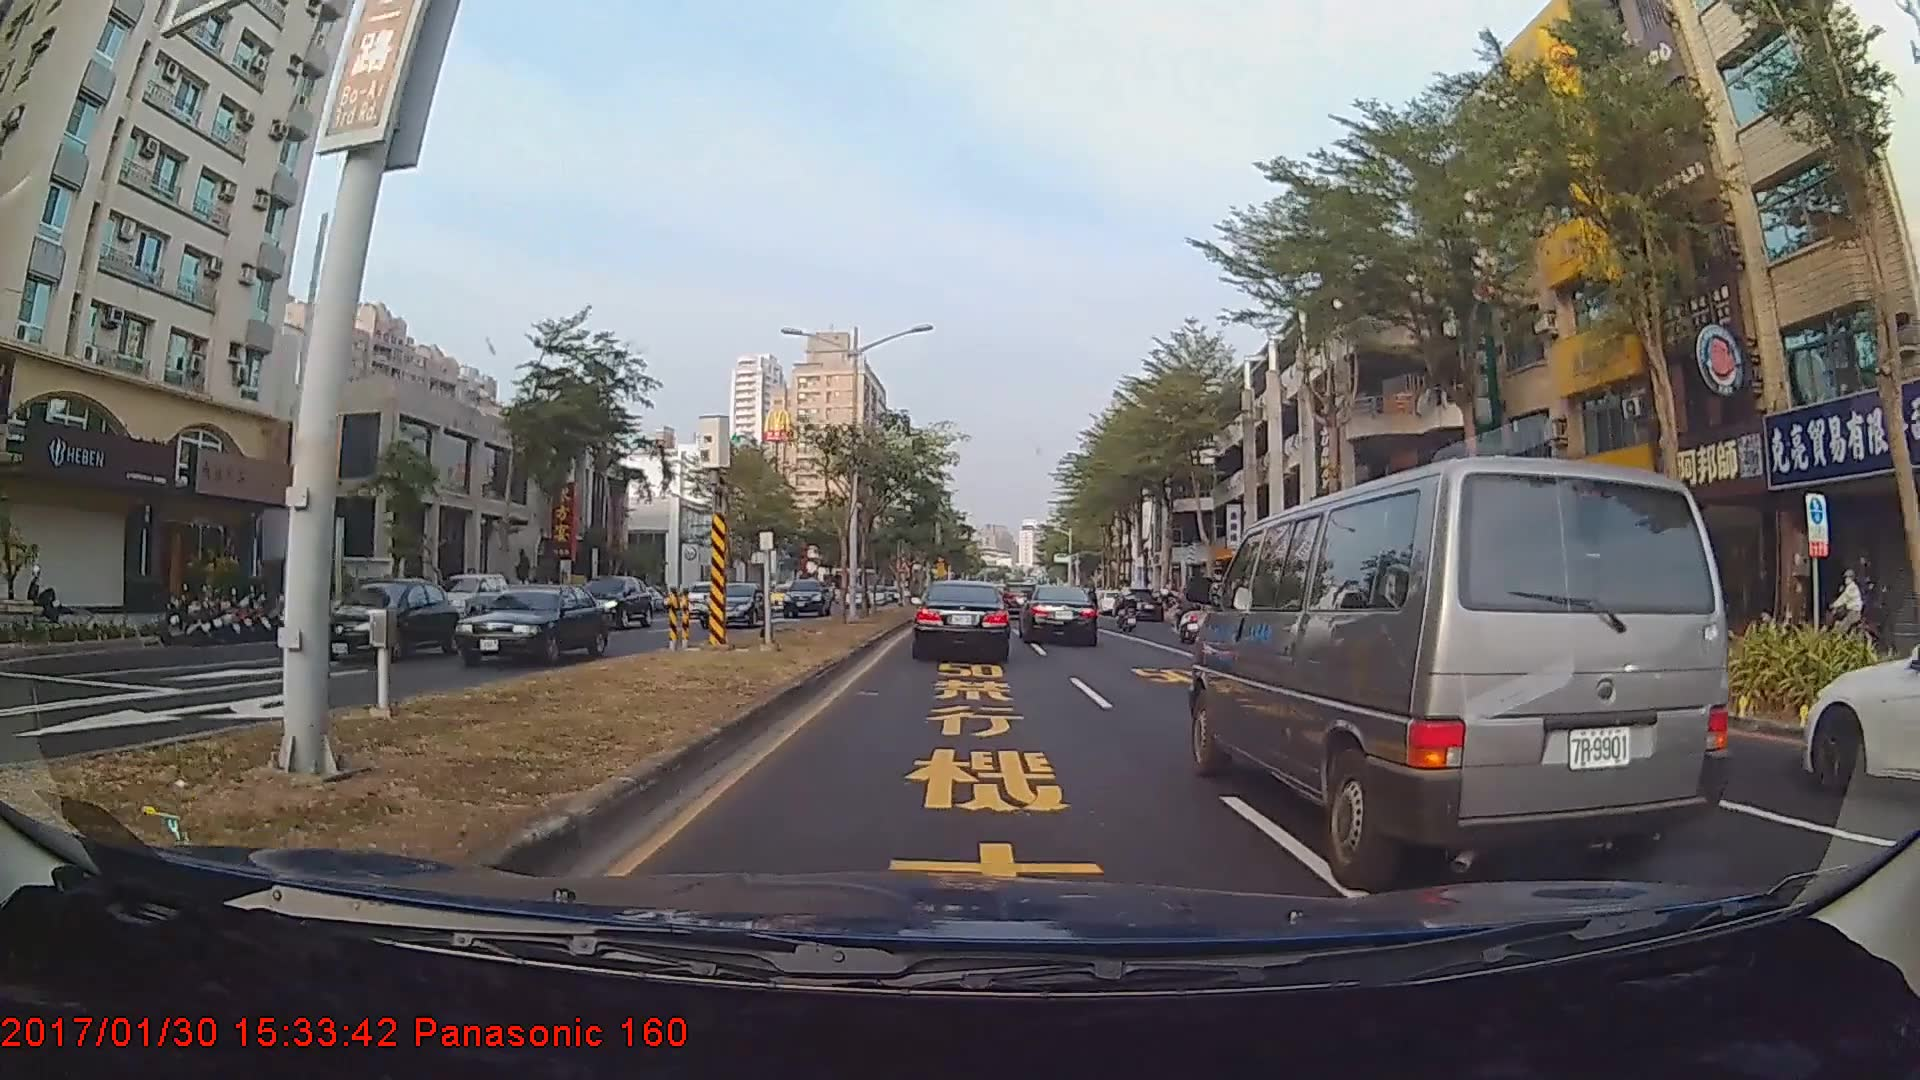vehicle: (1197, 446, 1726, 877), (1800, 584, 1919, 814), (447, 578, 613, 669), (309, 579, 465, 665), (913, 582, 1011, 663), (1019, 583, 1098, 646), (568, 574, 654, 629), (433, 572, 512, 622), (696, 579, 766, 629), (675, 579, 729, 618), (781, 576, 829, 615)
